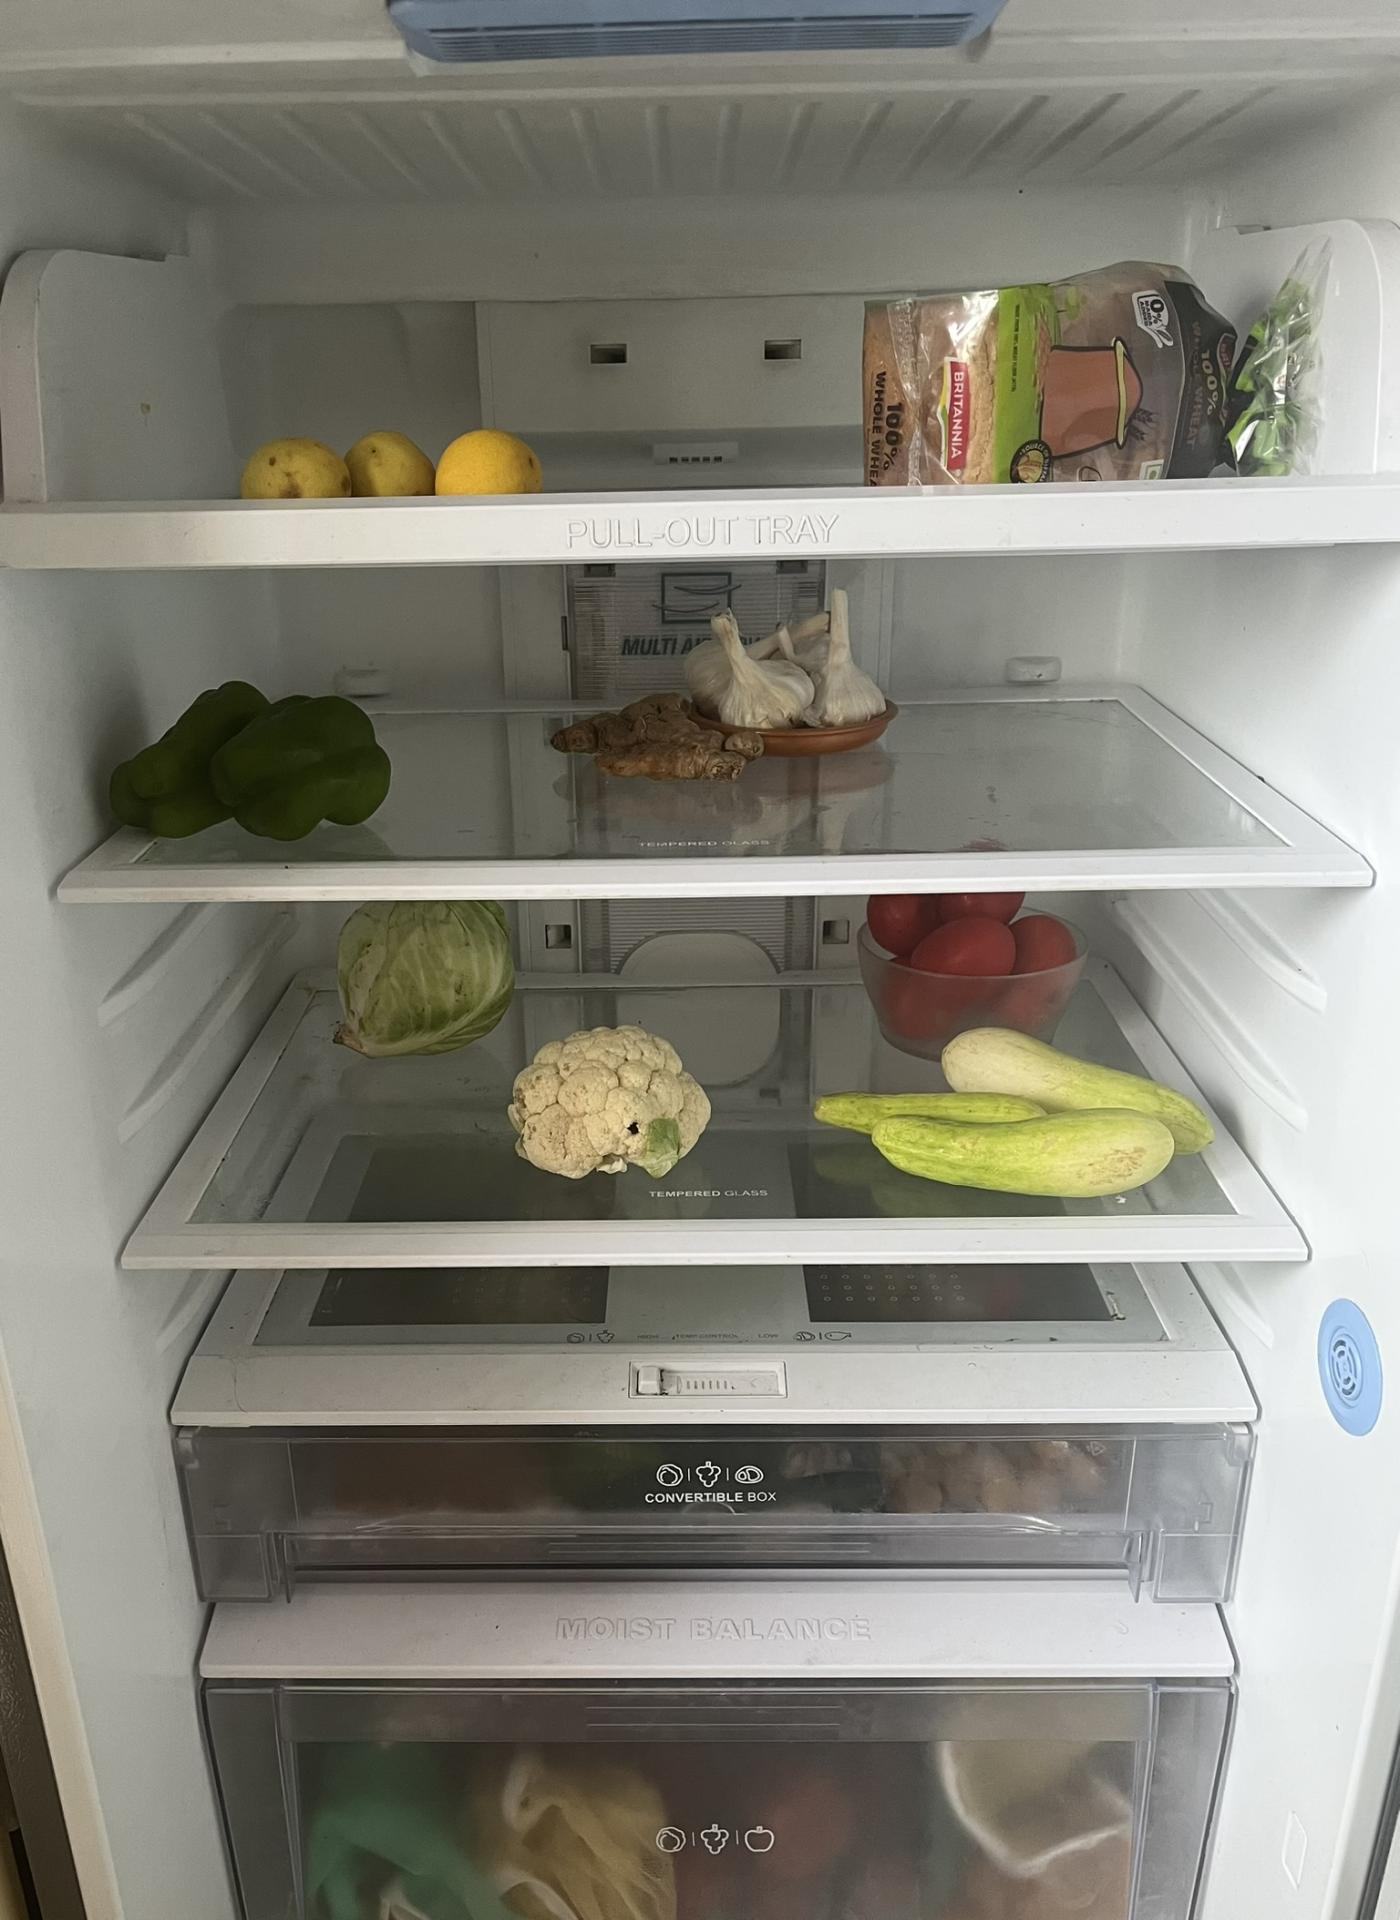bread: (851, 250, 1340, 502)
cabbage: (304, 897, 535, 1069)
capsicum: (97, 672, 404, 853)
cauliflower: (492, 1021, 726, 1191)
cucumber: (796, 1018, 1243, 1206)
garlic: (675, 593, 890, 747)
ginger: (547, 678, 778, 787)
lemon: (219, 413, 568, 501)
tomato: (857, 894, 1072, 1046)
